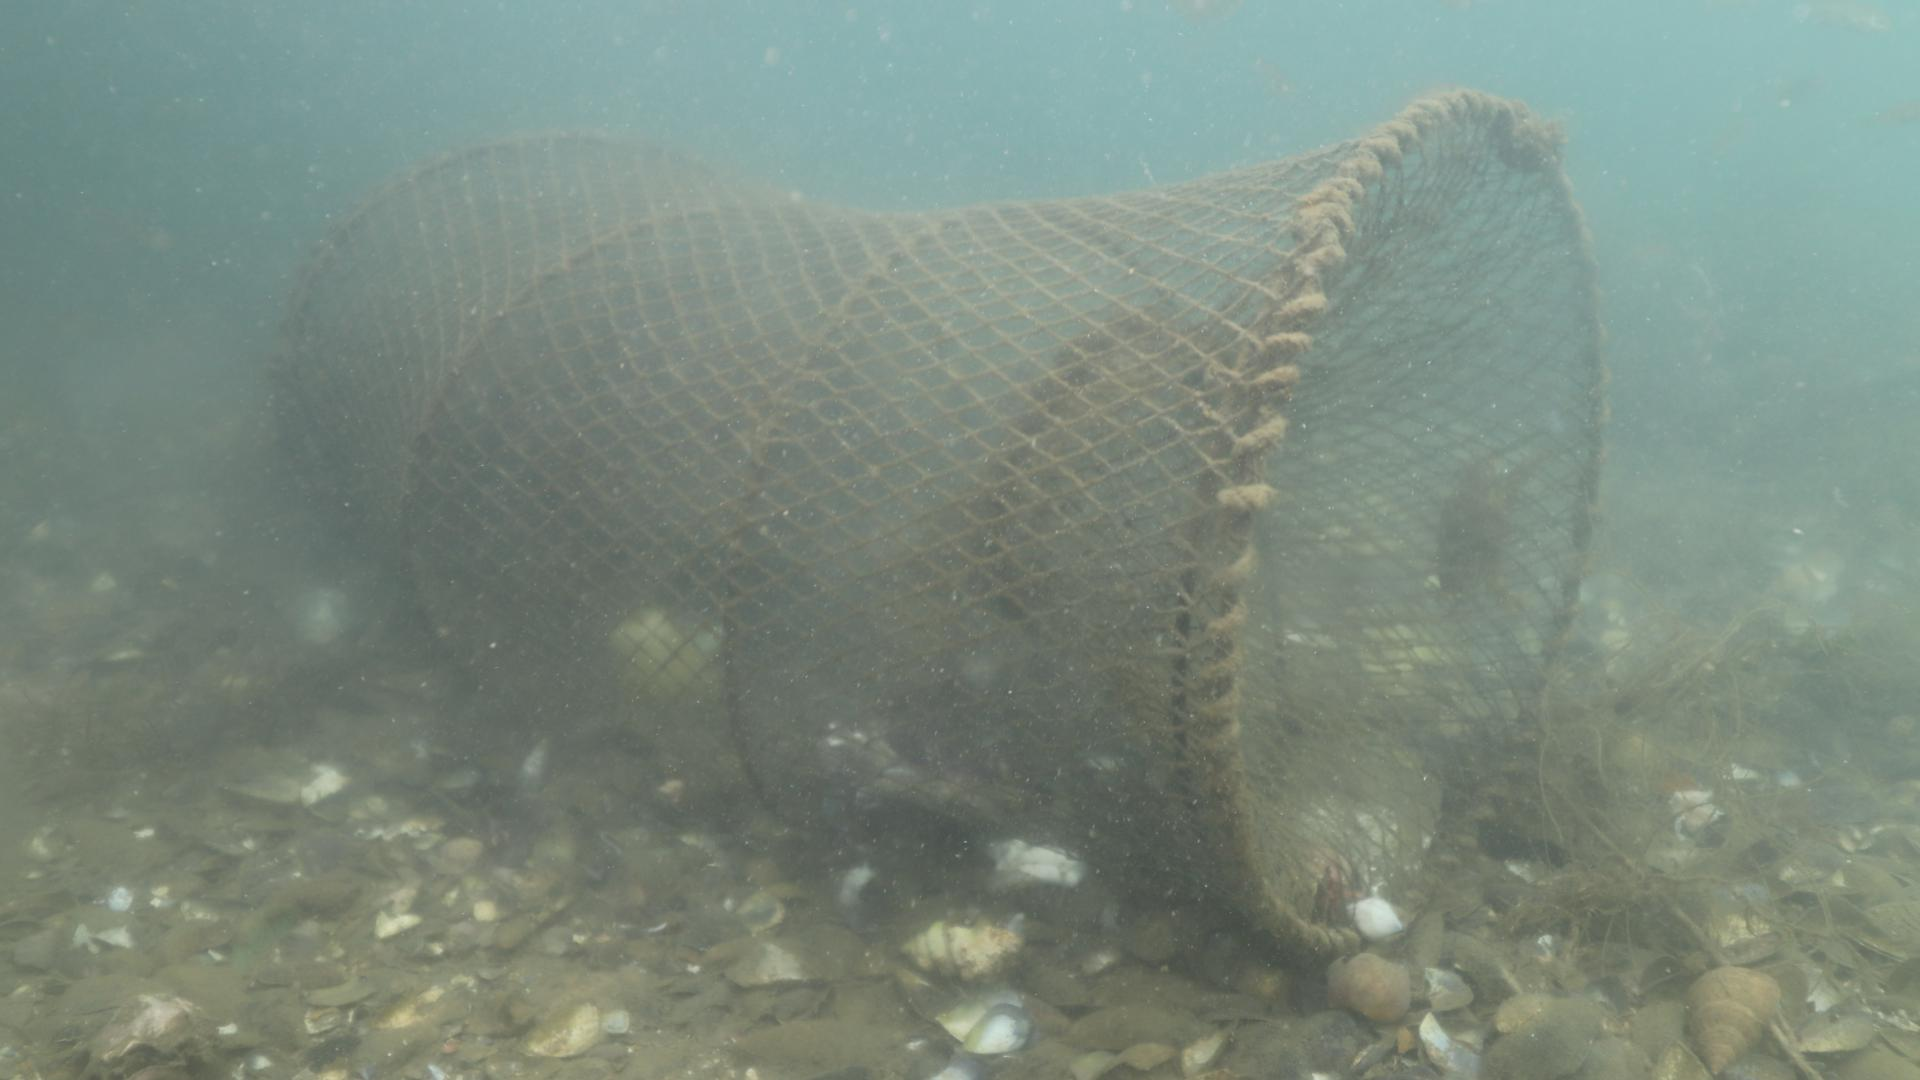spring fish trap: (278, 87, 1602, 965)
